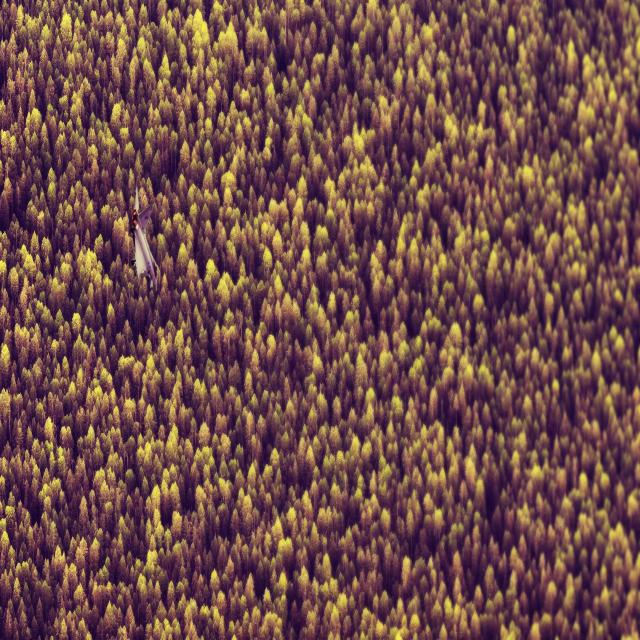airplane: (128, 183, 158, 292)
